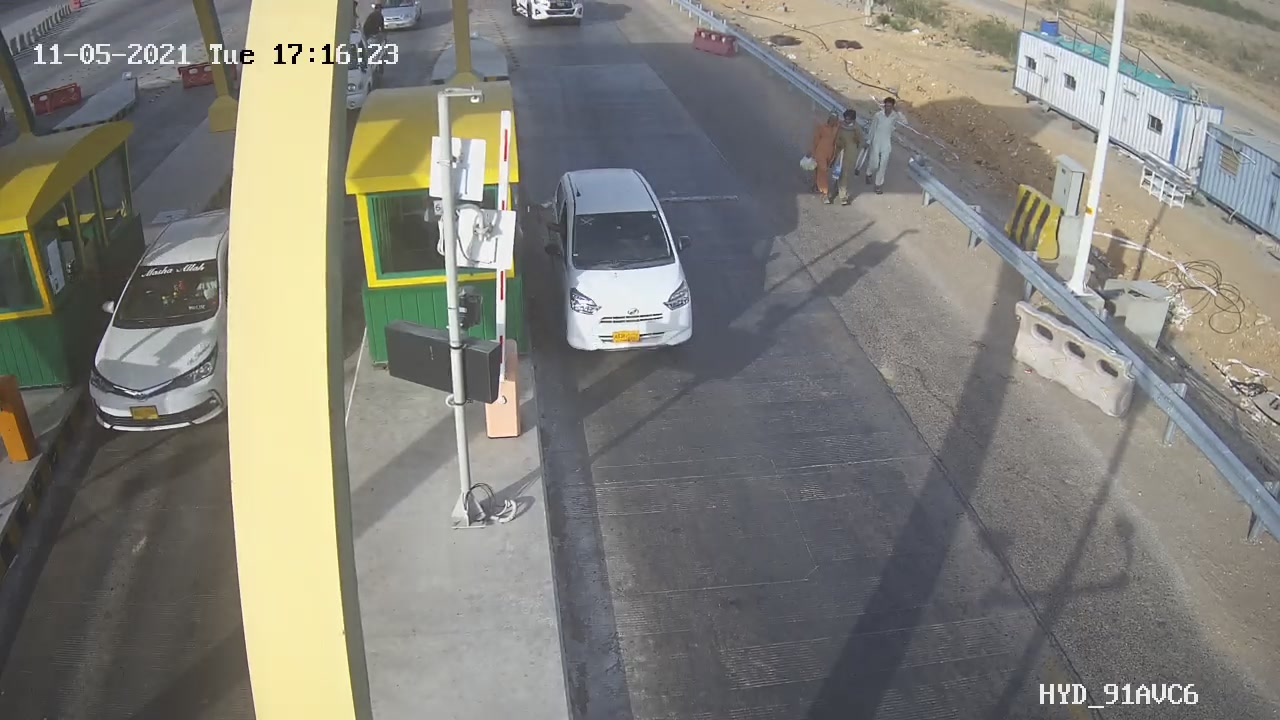F1: (530, 151, 712, 375)
